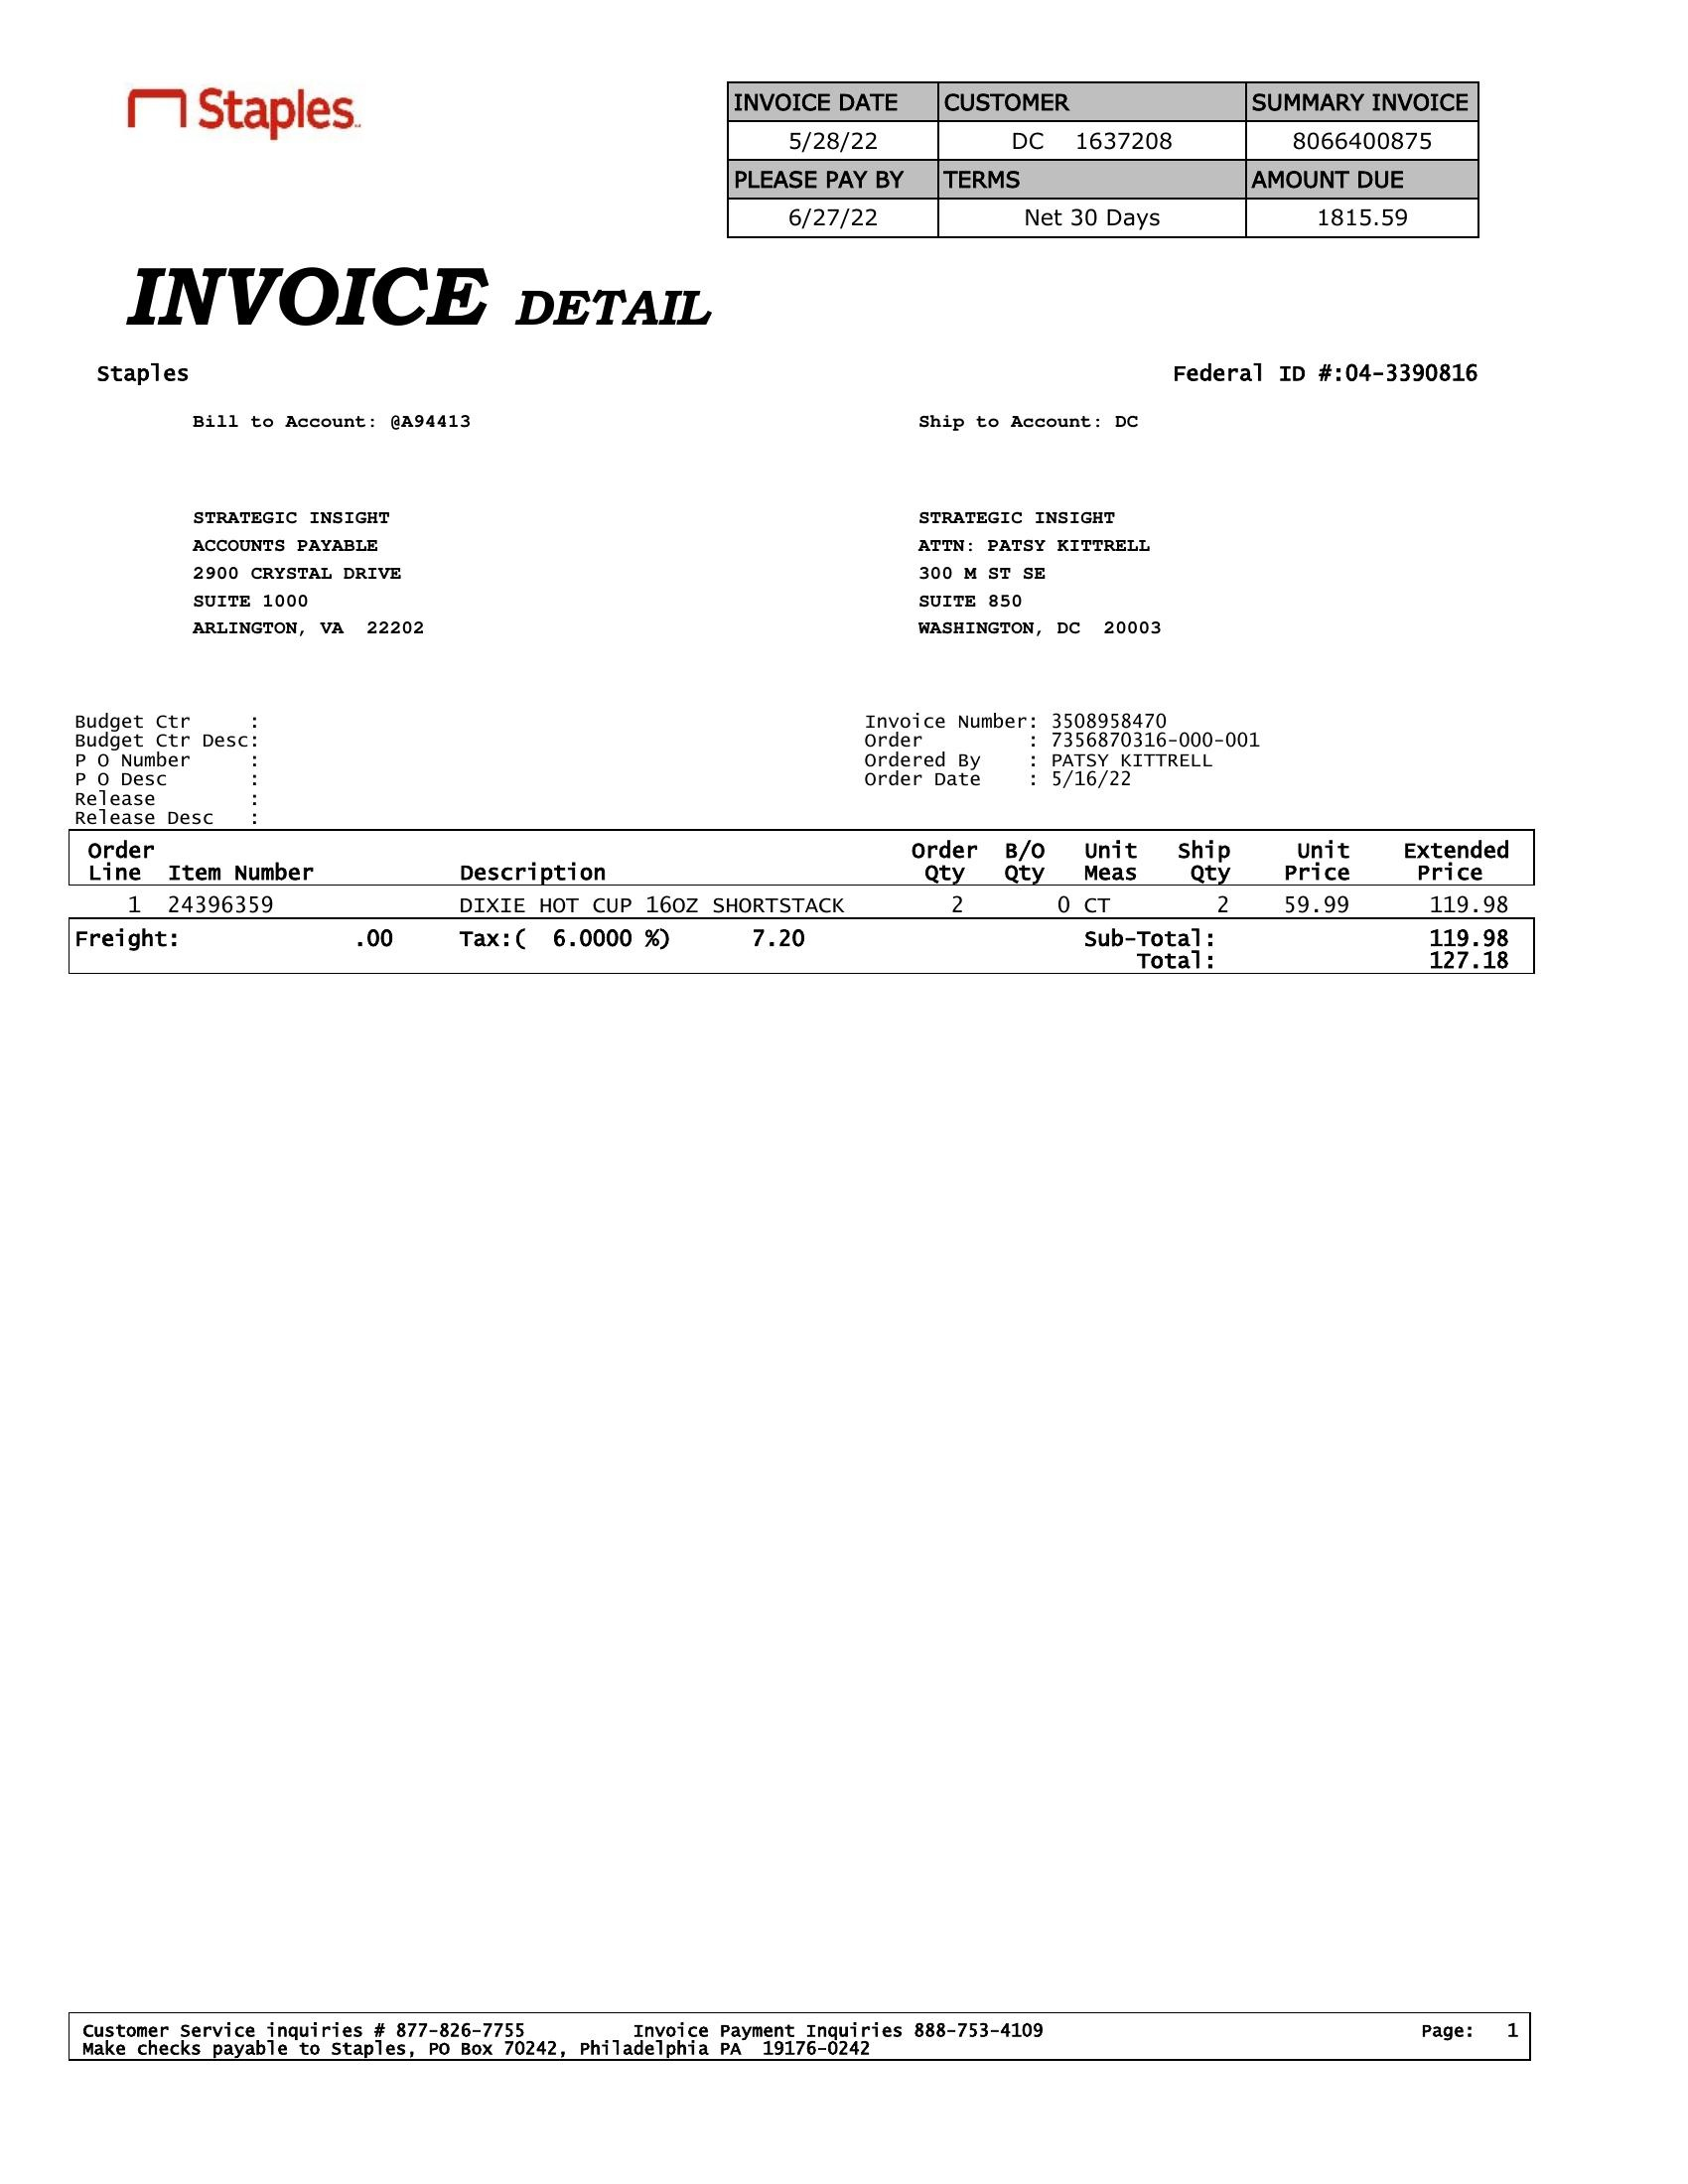0 table: (60, 823, 1541, 989)
